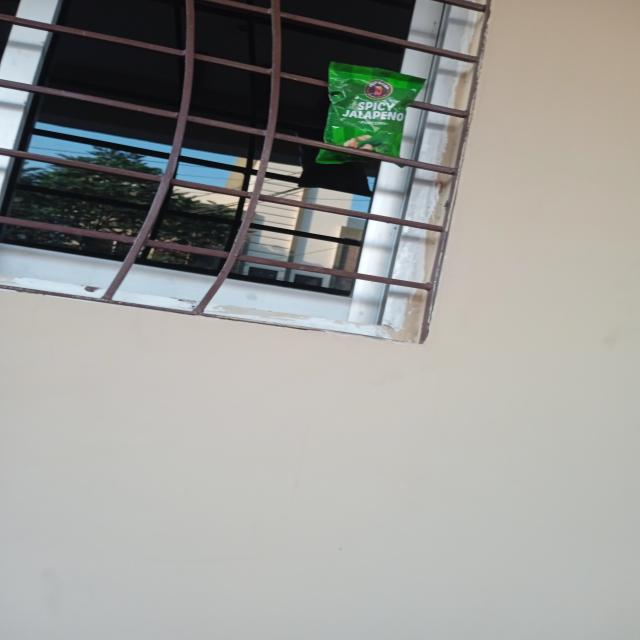Plastic: (331, 64, 416, 158)
